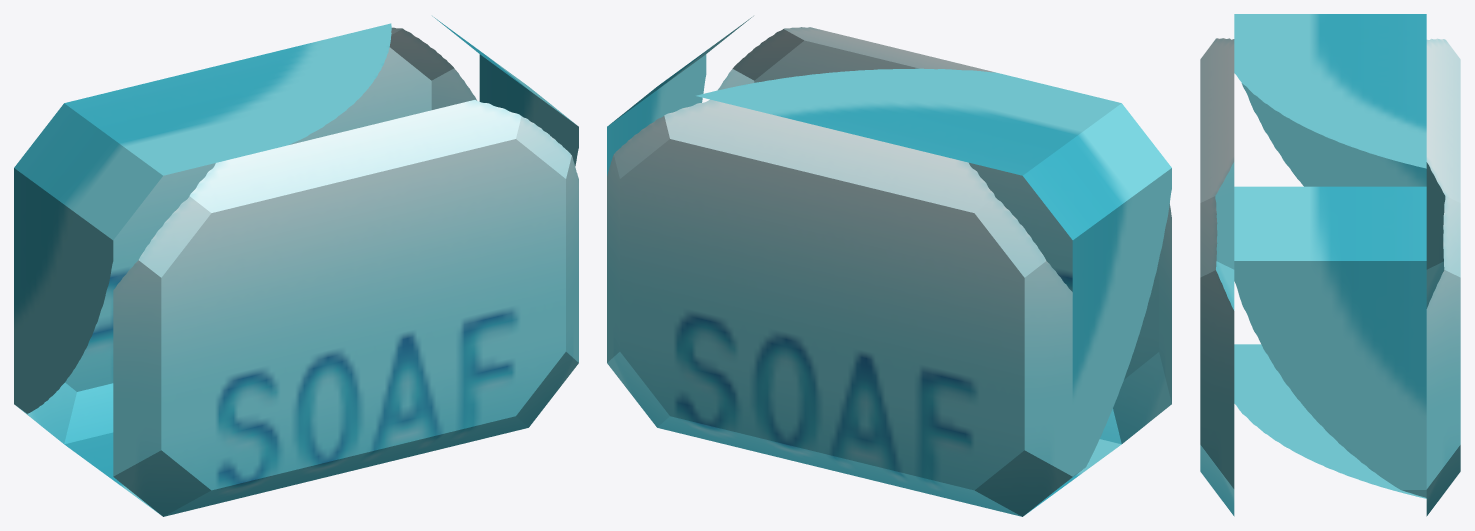
File: soaf.FBX
The picture shows the model from 3 angles, left to right: view 1: azimuth 30°, elevation 25°; view 2: azimuth 150°, elevation 25°; view 3: azimuth 270°, elevation 25°; orthographic projection. The views are drawn at different scales.
Parts seen in each view (by area): view 1: soaf; view 2: soaf; view 3: soaf.
Part boxes in pixels (box(x1,y1,x2,y2)): soaf: box(14, 16, 578, 516); soaf: box(607, 16, 1171, 516); soaf: box(1200, 14, 1460, 516).
Bounding box in the file's own units: 0.1 × 0.07 × 0.05.
